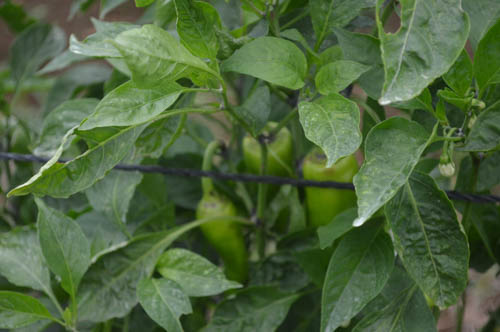ChiliPepper: (298, 154, 357, 260), (191, 197, 250, 284), (249, 121, 293, 232)
